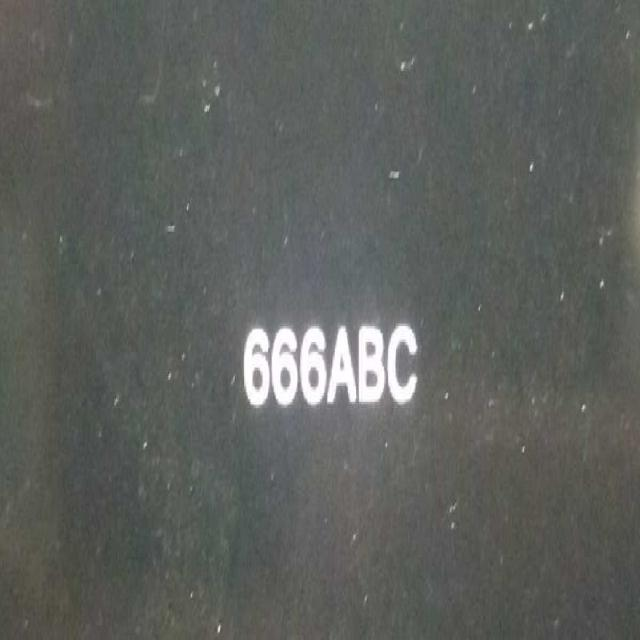license_plate: (238, 310, 422, 430)
